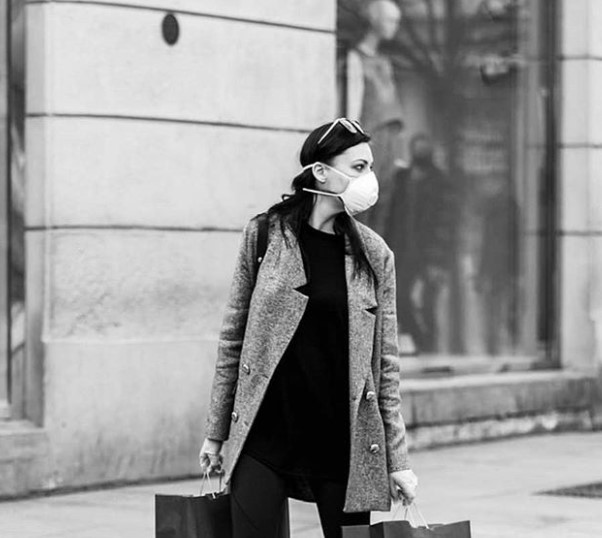face_with_mask: (299, 116, 382, 221)
